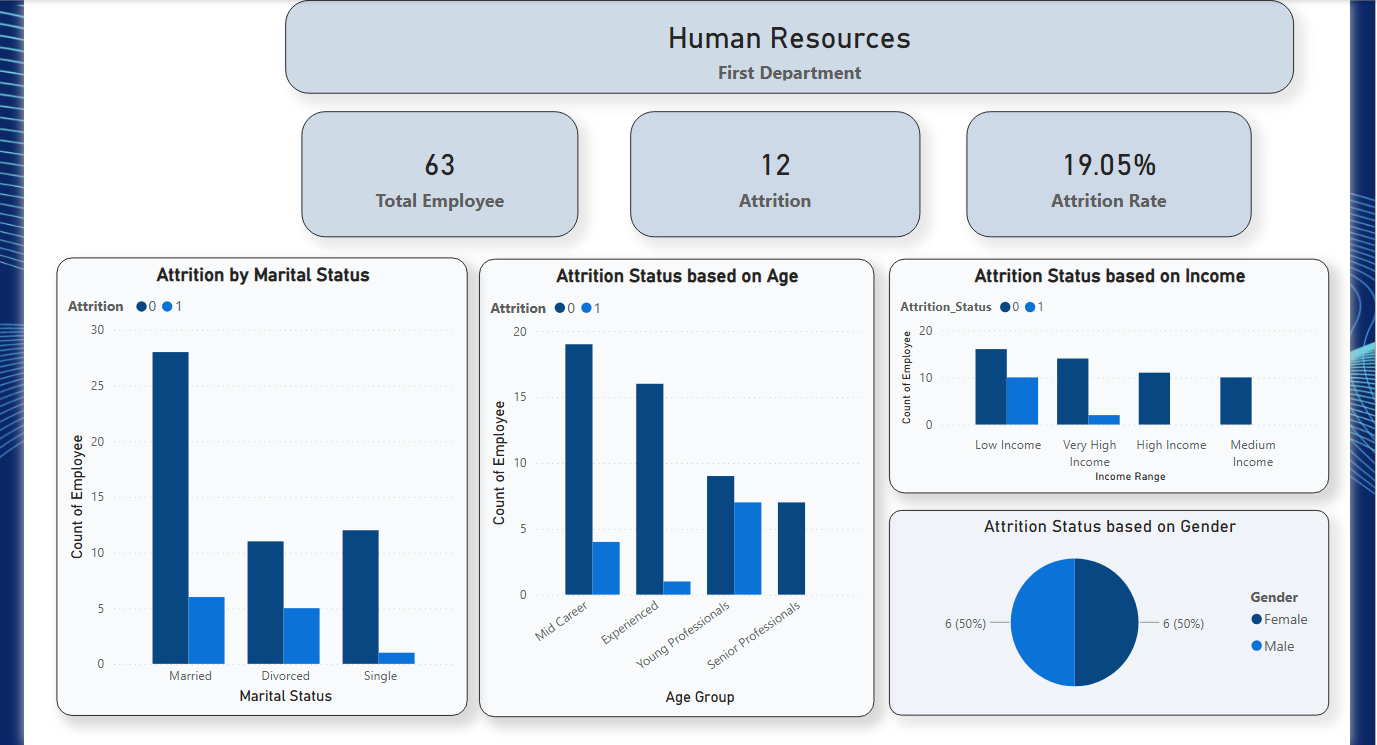

Layout of this report page (visuals, bound fields, positions):
{"tool":"powerbi","page":{"name":"Demographic Factors","canvas":[1280,720],"ordinal":2},"visuals":[{"type":"card","fields":{"Values":["HR_Analytics csv.Total Employee"]},"box":[267.3,107.8,267.3,121.9],"z":0},{"type":"card","fields":{"Values":["HR_Analytics csv.Attrition Rate"]},"box":[909.7,107.8,275.1,121.9],"z":1000},{"type":"card","fields":{"Values":["HR_Analytics.Attrition"]},"box":[584.6,107.8,279.8,121.9],"z":2000},{"type":"clusteredColumnChart","title":"   Attrition by Marital Status ","fields":{"Y":["CountNonNull(HR_Analytics csv.Employee ID)"],"Series":["HR_Analytics csv.Attrition_Numeric"],"Category":["HR_Analytics csv.Marital Status"]},"box":[31.3,248.5,397,442.3],"z":3000},{"type":"actionButton","box":[0,0,100,40],"z":4000},{"type":"clusteredColumnChart","title":" Attrition Status based on Age","fields":{"Y":["CountNonNull(HR_Analytics csv.Employee ID)"],"Series":["HR_Analytics csv.Attrition_Numeric"],"Category":["HR_Analytics csv.Age Group"]},"box":[439.2,250.1,381.4,442.3],"z":5000},{"type":"clusteredColumnChart","title":" Attrition Status based on Income","fields":{"Y":["CountNonNull(HR_Analytics csv.Employee ID)"],"Series":["HR_Analytics csv.Attrition_Numeric"],"Category":["HR_Analytics.Income Range"]},"box":[834.6,250.1,425.1,226.6],"z":8000},{"type":"card","fields":{"Values":["Min(HR_Analytics.Department)"]},"box":[251.6,0,973.7,90.7],"z":9000},{"type":"pieChart","title":"Attrition Status based on Gender","fields":{"Category":["HR_Analytics csv.Gender"],"Y":["Sum(HR_Analytics csv.Attrition_Numeric)"]},"box":[834.6,492.3,425.1,198.5],"z":10000}]}

Visuals, with their boxes on the page's 1280x720 design canvas (x1, y1, x2, y2). These are canvas units, not pixel positions in the 1377x745 screenshot, which may show the page scaled, cropped or inside an application window:
card - HR_Analytics csv.Total Employee: 267 108 535 230
card - HR_Analytics csv.Attrition Rate: 910 108 1185 230
card - HR_Analytics.Attrition: 585 108 864 230
"   Attrition by Marital Status " clusteredColumnChart: 31 248 428 691
actionButton: 0 0 100 40
" Attrition Status based on Age" clusteredColumnChart: 439 250 821 692
" Attrition Status based on Income" clusteredColumnChart: 835 250 1260 477
card - Min(HR_Analytics.Department): 252 0 1225 91
"Attrition Status based on Gender" pieChart: 835 492 1260 691
